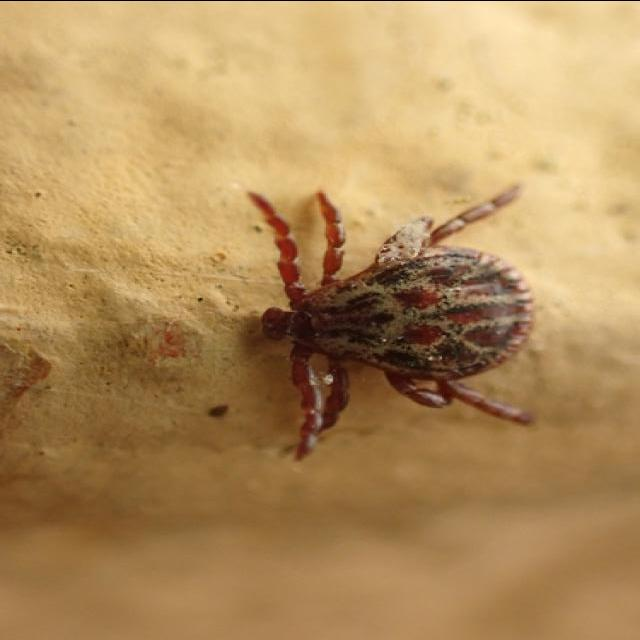Dermacentor Reticulatus-M: (249, 182, 536, 461)
